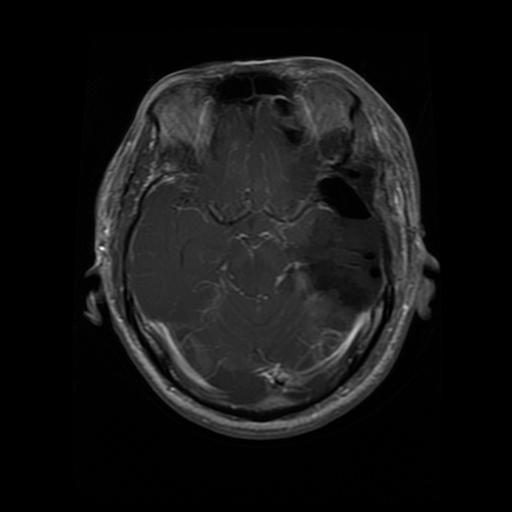glioma: (291, 127, 393, 310)
